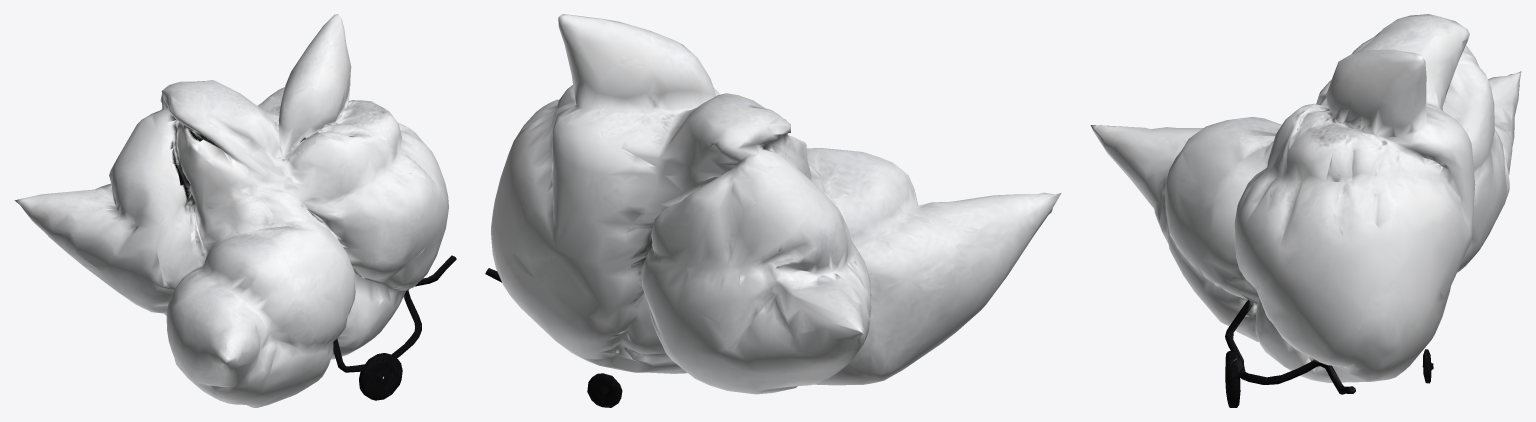
Rendered from Experiment58.glb.
3 renders of one model, left to right at view 1: azimuth 30°, elevation 25°; view 2: azimuth 150°, elevation 25°; view 3: azimuth 270°, elevation 25°, orthographic. The views are drawn at different scales.
Parts seen in each view (by area): view 1: Meshy_AI_Silvery_Golem_on_Whee_0522211818_texture; view 2: Meshy_AI_Silvery_Golem_on_Whee_0522211818_texture; view 3: Meshy_AI_Silvery_Golem_on_Whee_0522211818_texture.
Boxes of the visible parts, <box> form: Meshy_AI_Silvery_Golem_on_Whee_0522211818_texture: <box>14,14,456,407</box>; Meshy_AI_Silvery_Golem_on_Whee_0522211818_texture: <box>485,14,1061,407</box>; Meshy_AI_Silvery_Golem_on_Whee_0522211818_texture: <box>1090,14,1521,407</box>.
Bounding box in the file's own units: 1.9 × 1.55 × 1.64.
Materials: 1 (1 with a texture image).
